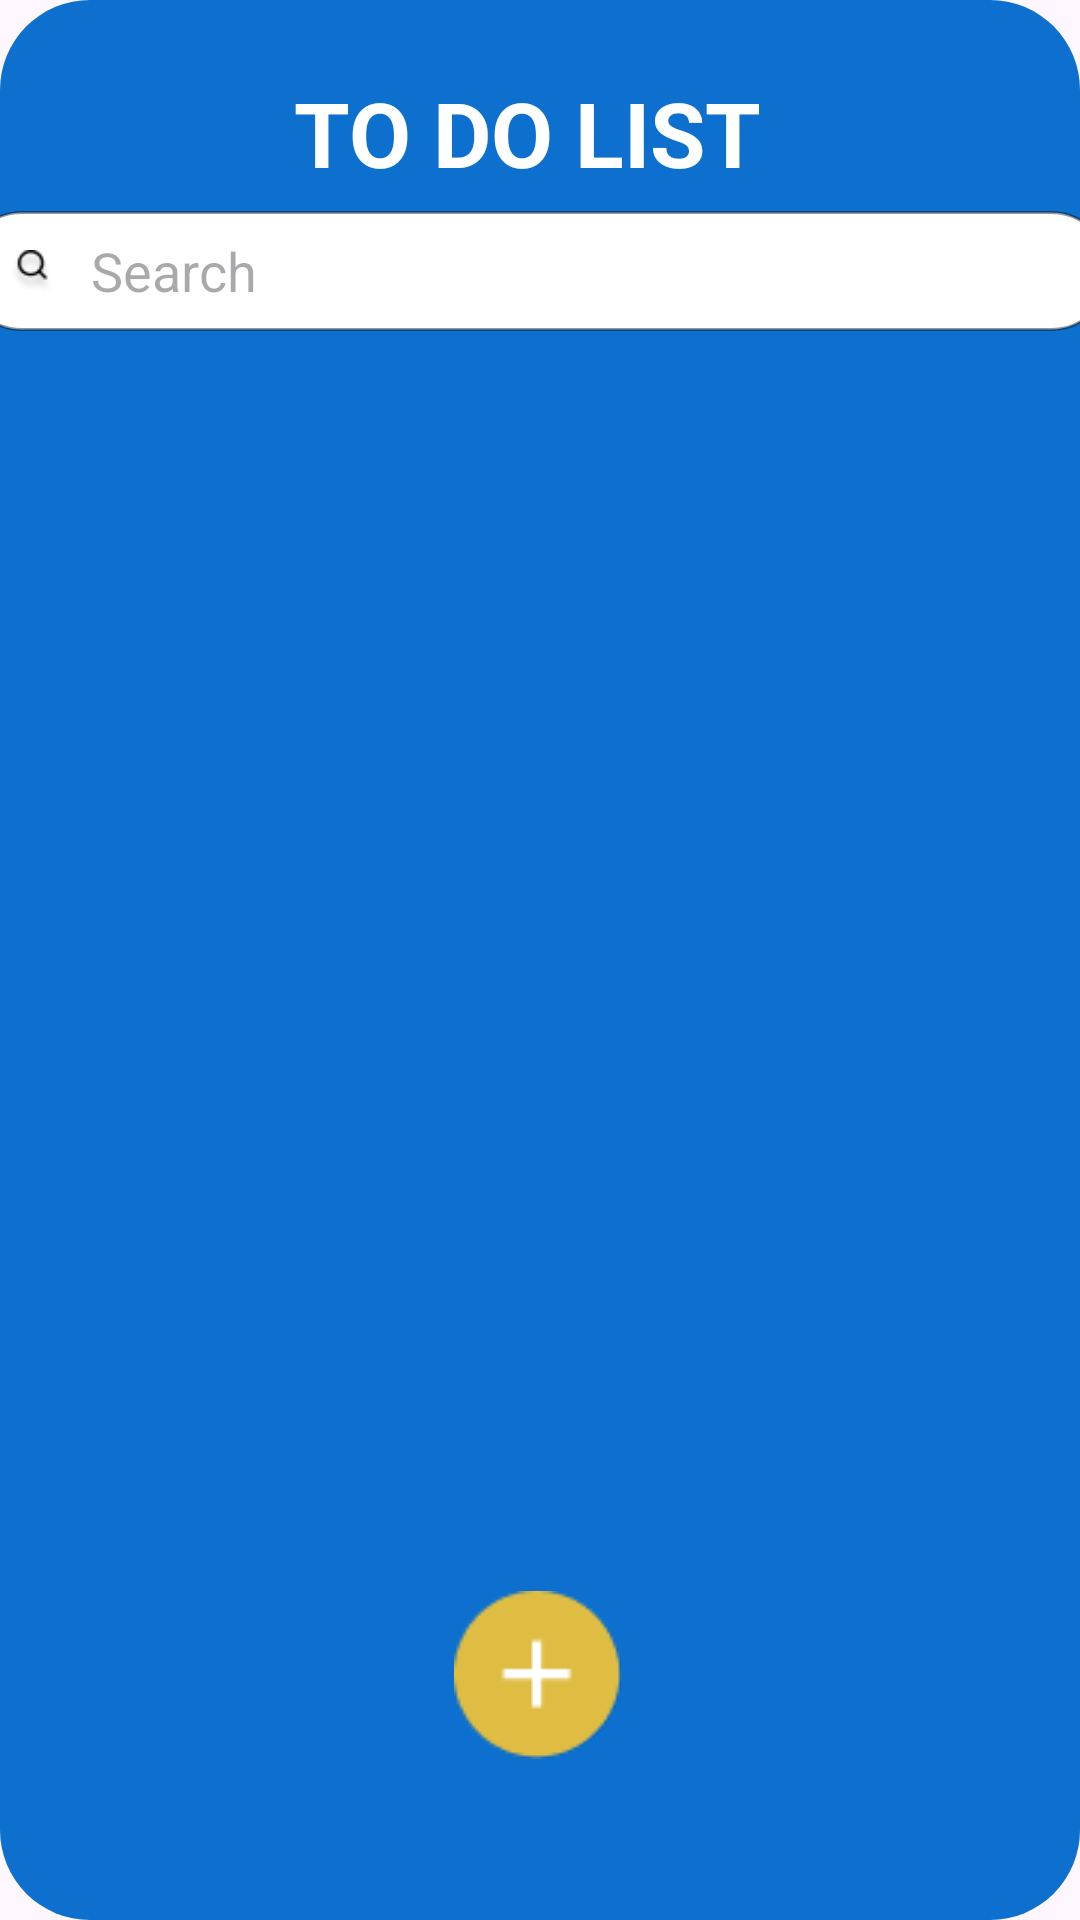

Screen size 1080px×1920px. Icon name, then its center in pixels as [x,y]:
add: [537,1675]
